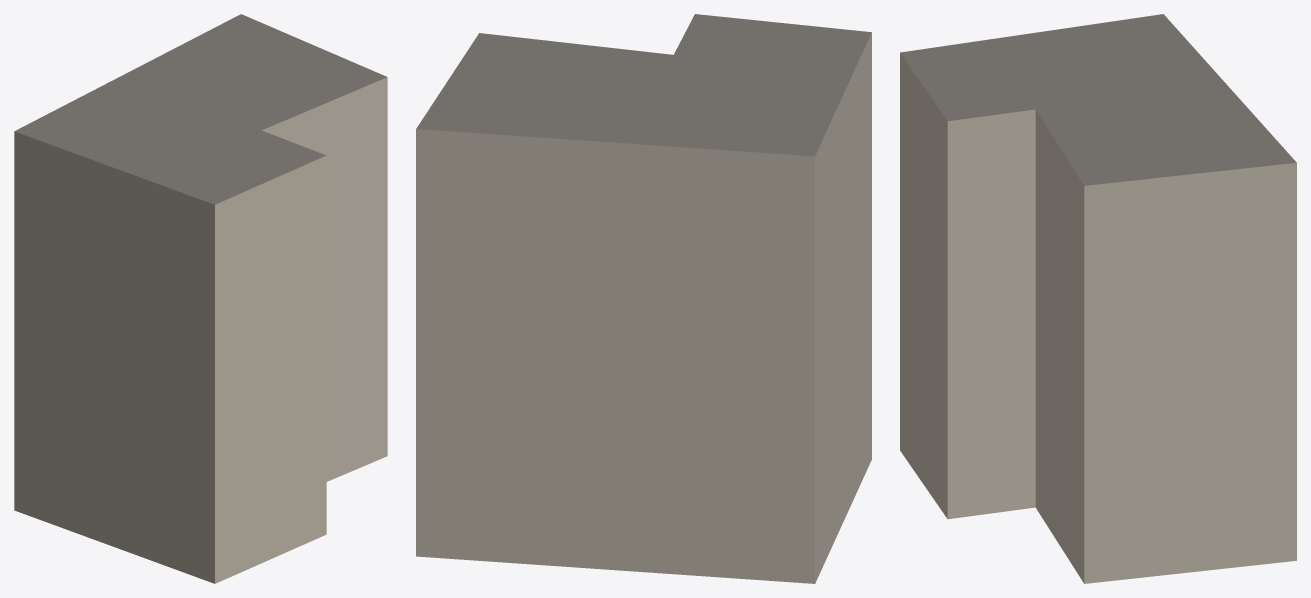
3 renders of one model, left to right at view 1: azimuth 30°, elevation 25°; view 2: azimuth 150°, elevation 25°; view 3: azimuth 270°, elevation 25°, orthographic. The views are drawn at different scales.
Visible parts, largest first — view 1: HP-w446934321; view 2: HP-w446934321; view 3: HP-w446934321.
Part boxes in pixels (bbox=[...]): HP-w446934321: bbox=[14, 14, 387, 583]; HP-w446934321: bbox=[416, 14, 871, 583]; HP-w446934321: bbox=[900, 14, 1296, 583].
Size of the model in its own units: 16.67 by 18 by 16.27.
